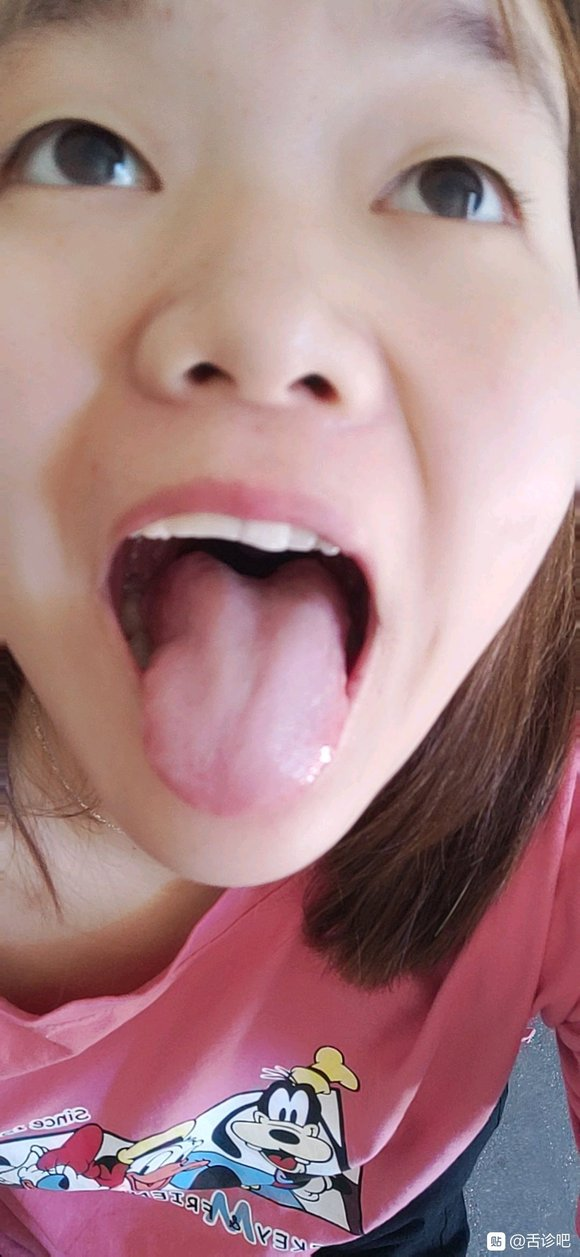baitaishe: (138, 551, 350, 818)
shenquao: (197, 550, 312, 591)
